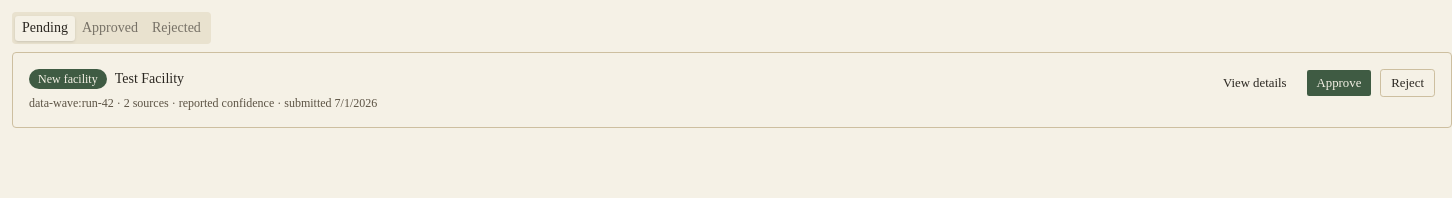
SubmissionList — row rendering › toggles the detail view via the expand affordance
Click the button with aria-label "View details for Test Facility". click: (1255, 83)
box: [1212,69,1298,97]
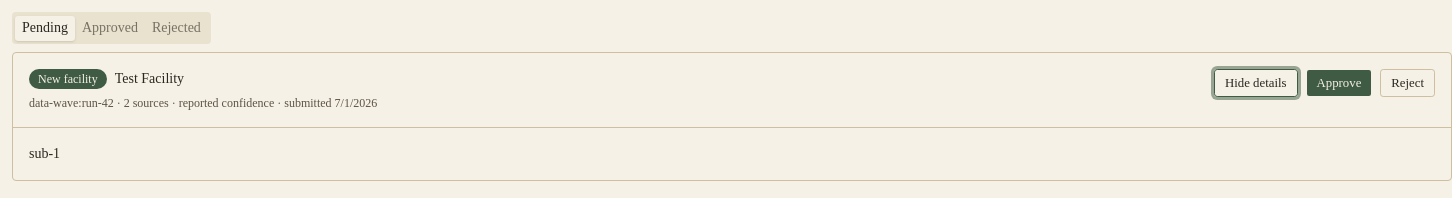
Check: the text "sub-1" is shown, box [29,146,60,161]
Click the button with aria-label "Hide details for Test Facility". click: (1256, 83)
box: [1214,69,1298,97]
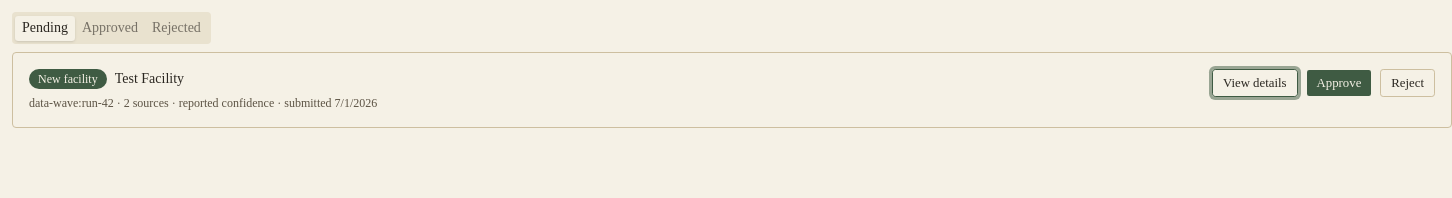
Check: the text with test id "submission-detail" is gone
